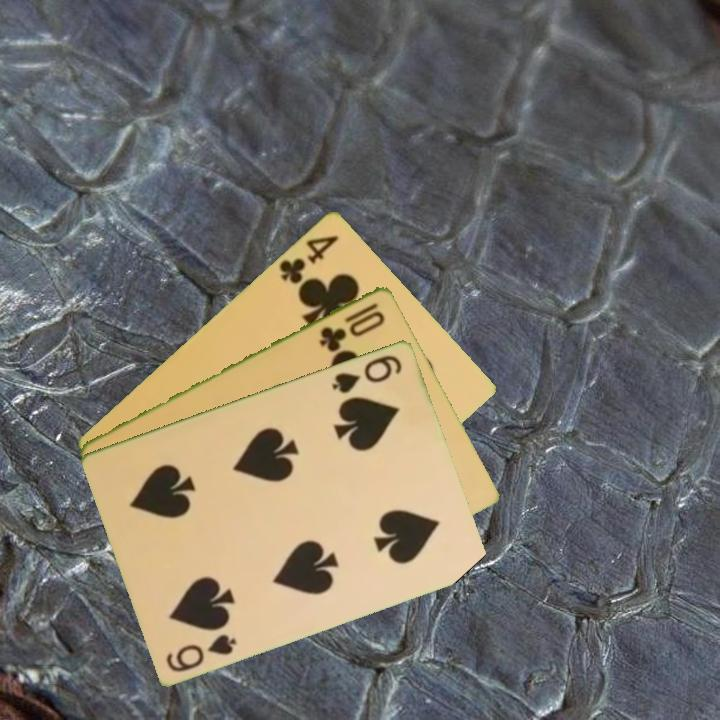10c: (315, 298, 388, 354)
4c: (275, 231, 342, 286)
6s: (328, 351, 406, 396), (162, 630, 240, 675)
